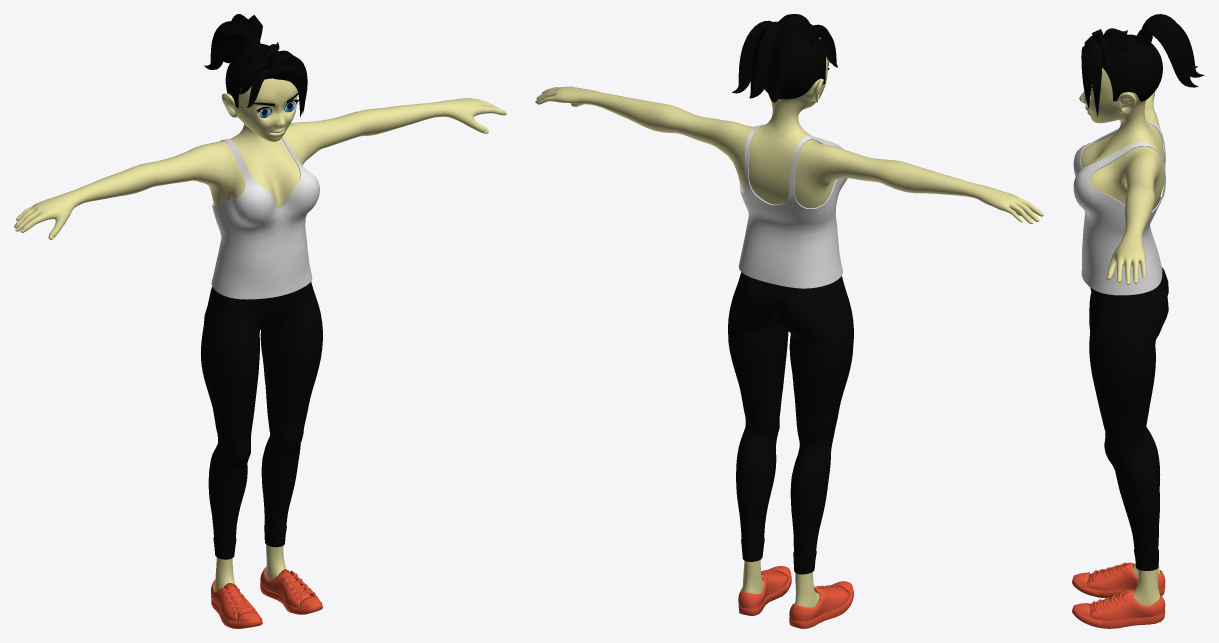
The model's file is girl_1.gltf.
3 views of the same model, side by side, from view 1: azimuth 30°, elevation 25°; view 2: azimuth 150°, elevation 25°; view 3: azimuth 270°, elevation 25° (orthographic). The views are drawn at different scales.
Parts seen in each view (by area): view 1: D_2, Body.001, D_1, Hair, Shoes.001; view 2: D_2, Body.001, D_1, Hair, Shoes.001; view 3: D_2, Body.001, Hair, D_1, Shoes.001.
Boxes of the visible parts, box(x1,y1,x2,y2) form: D_2: box(200, 281, 322, 559); Body.001: box(14, 78, 506, 591); D_1: box(211, 135, 319, 299); Hair: box(204, 14, 307, 116); Shoes.001: box(211, 567, 322, 628); D_2: box(728, 272, 853, 574); Body.001: box(535, 55, 1043, 607); D_1: box(738, 124, 847, 288); Hair: box(732, 14, 837, 102); Shoes.001: box(738, 566, 853, 628); D_2: box(1089, 267, 1168, 570); Body.001: box(1079, 68, 1164, 605); Hair: box(1081, 14, 1204, 116); D_1: box(1073, 120, 1165, 295); Shoes.001: box(1072, 562, 1165, 628).
Bounding box in the file's own units: 6.55 × 7.46 × 1.52.
7 materials, 1 textured.
